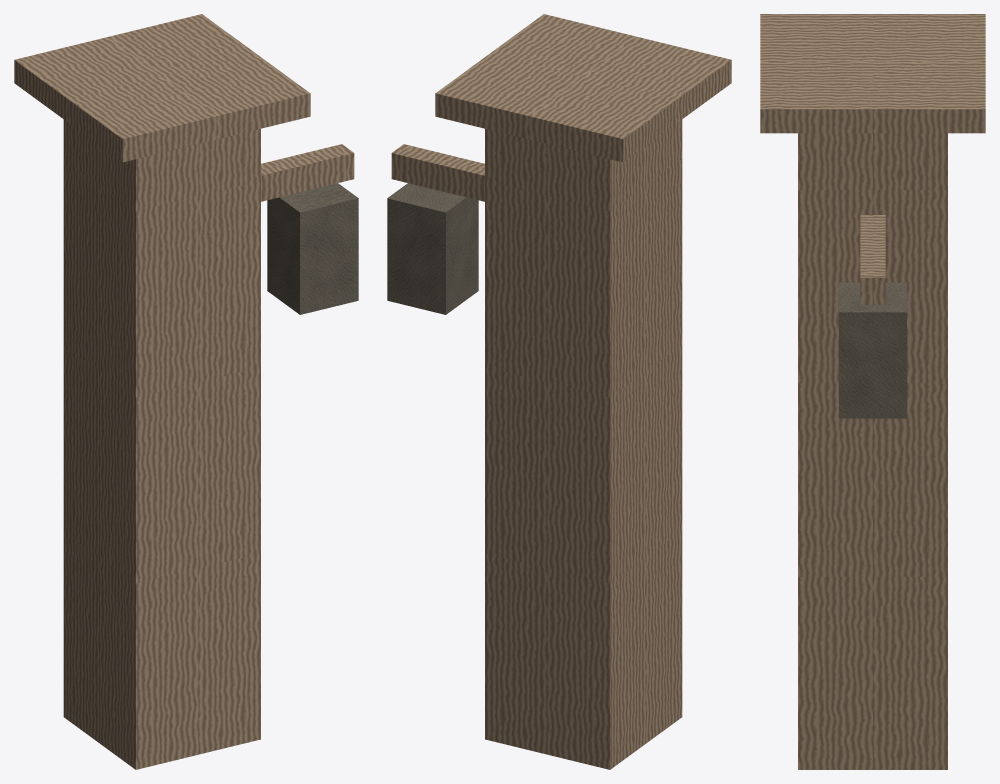
File: 나무기둥.fbx
The picture shows the model from 3 angles, left to right: view 1: azimuth 30°, elevation 25°; view 2: azimuth 150°, elevation 25°; view 3: azimuth 270°, elevation 25°; orthographic projection. The views are drawn at different scales.
Parts seen in each view (by area): view 1: 나무기둥; view 2: 나무기둥; view 3: 나무기둥.
Part boxes in pixels (x1,y1,x2,y2): 나무기둥: (14, 14, 358, 769); 나무기둥: (387, 14, 731, 769); 나무기둥: (760, 14, 985, 769).
Bounding box in the file's own units: 315 × 700 × 211.
2 materials, 2 textured.
